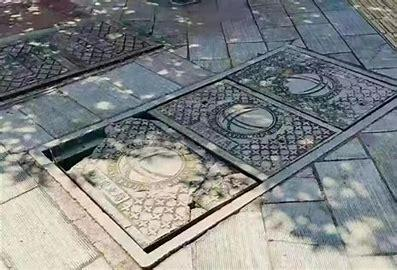wellcover: (51, 45, 397, 253), (0, 4, 164, 92)
